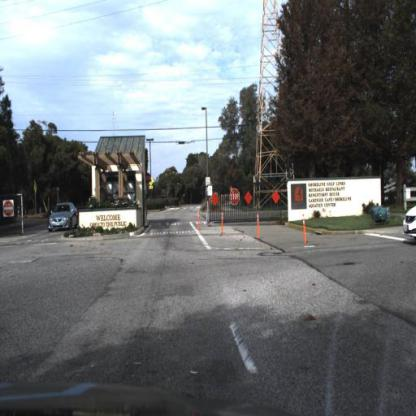car: (48, 201, 78, 232), (401, 200, 416, 250)
